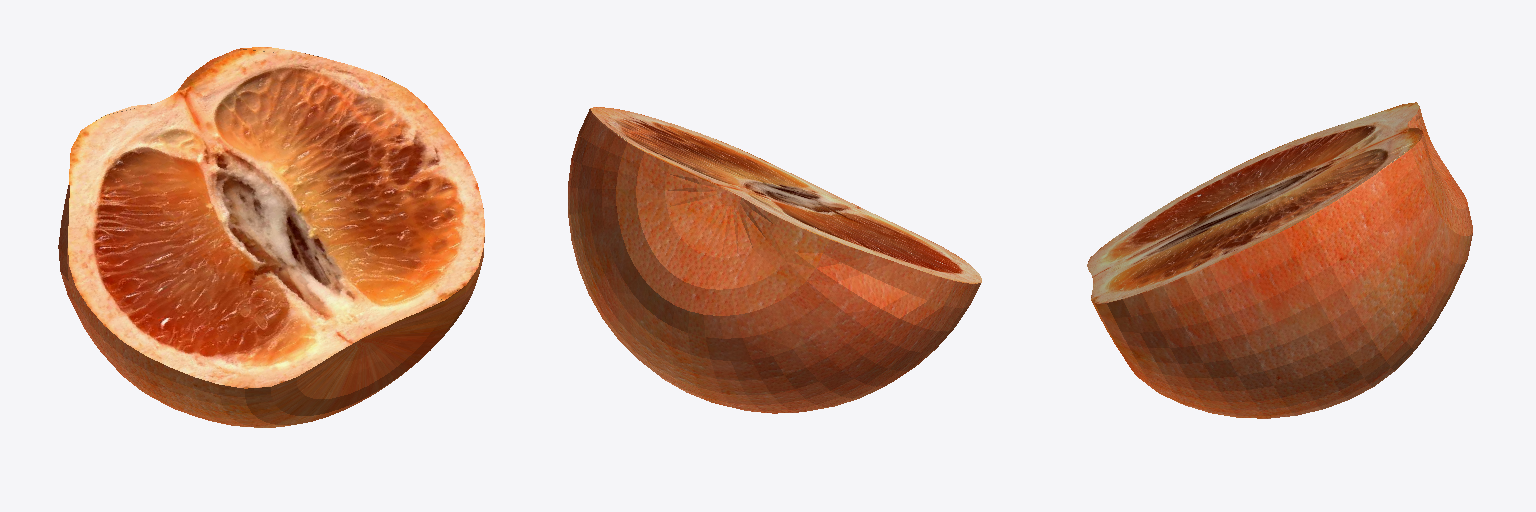
3 renders of one model, left to right at view 1: azimuth 30°, elevation 25°; view 2: azimuth 150°, elevation 25°; view 3: azimuth 270°, elevation 25°, orthographic.
Parts seen in each view (by area): view 1: Grapefruit_Half02, Grapefruit02; view 2: Grapefruit02, Grapefruit_Top02, Grapefruit_Half02; view 3: Grapefruit02, Grapefruit_Half02, Grapefruit_Top02.
Boxes of the visible parts, box(x1,y1,x2,y2) form: Grapefruit_Half02: box(68, 47, 484, 388); Grapefruit02: box(58, 53, 484, 427); Grapefruit02: box(568, 109, 980, 413); Grapefruit_Top02: box(616, 143, 829, 315); Grapefruit_Half02: box(590, 107, 981, 283); Grapefruit02: box(1089, 125, 1472, 418); Grapefruit_Half02: box(1087, 102, 1422, 303); Grapefruit_Top02: box(1407, 106, 1472, 235).
Size of the model in its own units: 1.81 by 1.35 by 1.65.
2 materials, 2 textured.